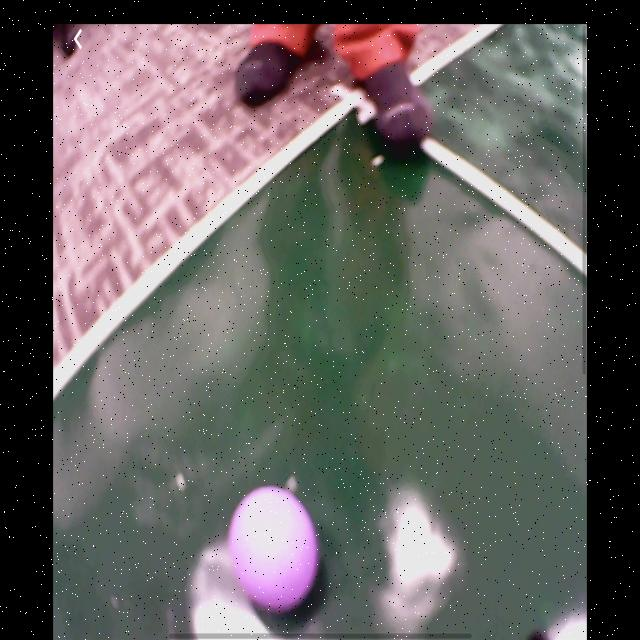ball: (229, 486, 318, 612)
